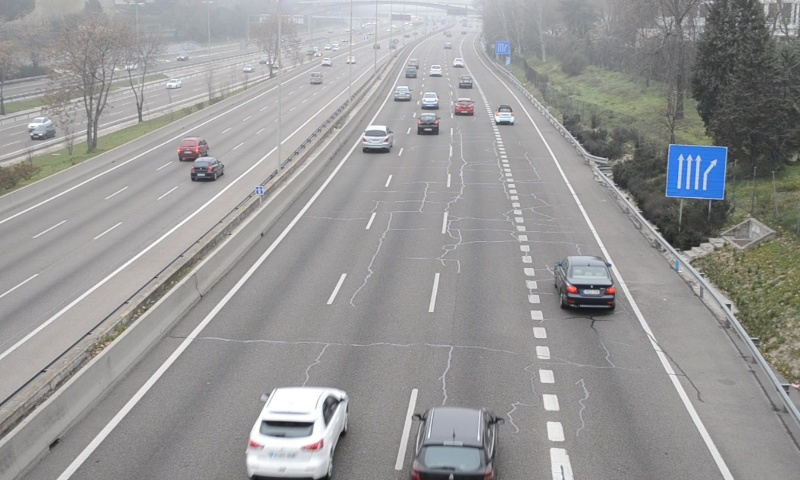car: (246, 386, 350, 480), (409, 406, 498, 480), (556, 253, 619, 312), (360, 124, 393, 154), (494, 104, 516, 126), (417, 113, 440, 134), (454, 97, 474, 117), (392, 86, 413, 102), (420, 91, 438, 109), (458, 75, 473, 89)
